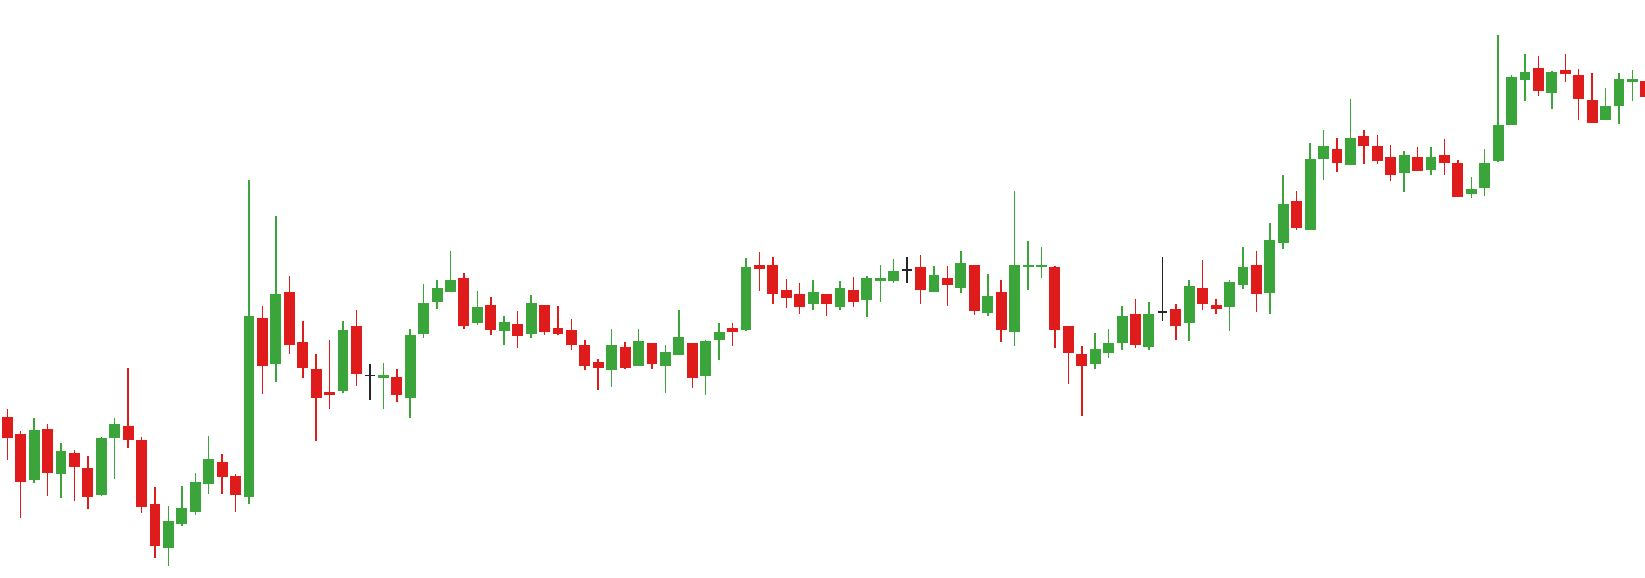buy: (54, 436, 188, 572)
